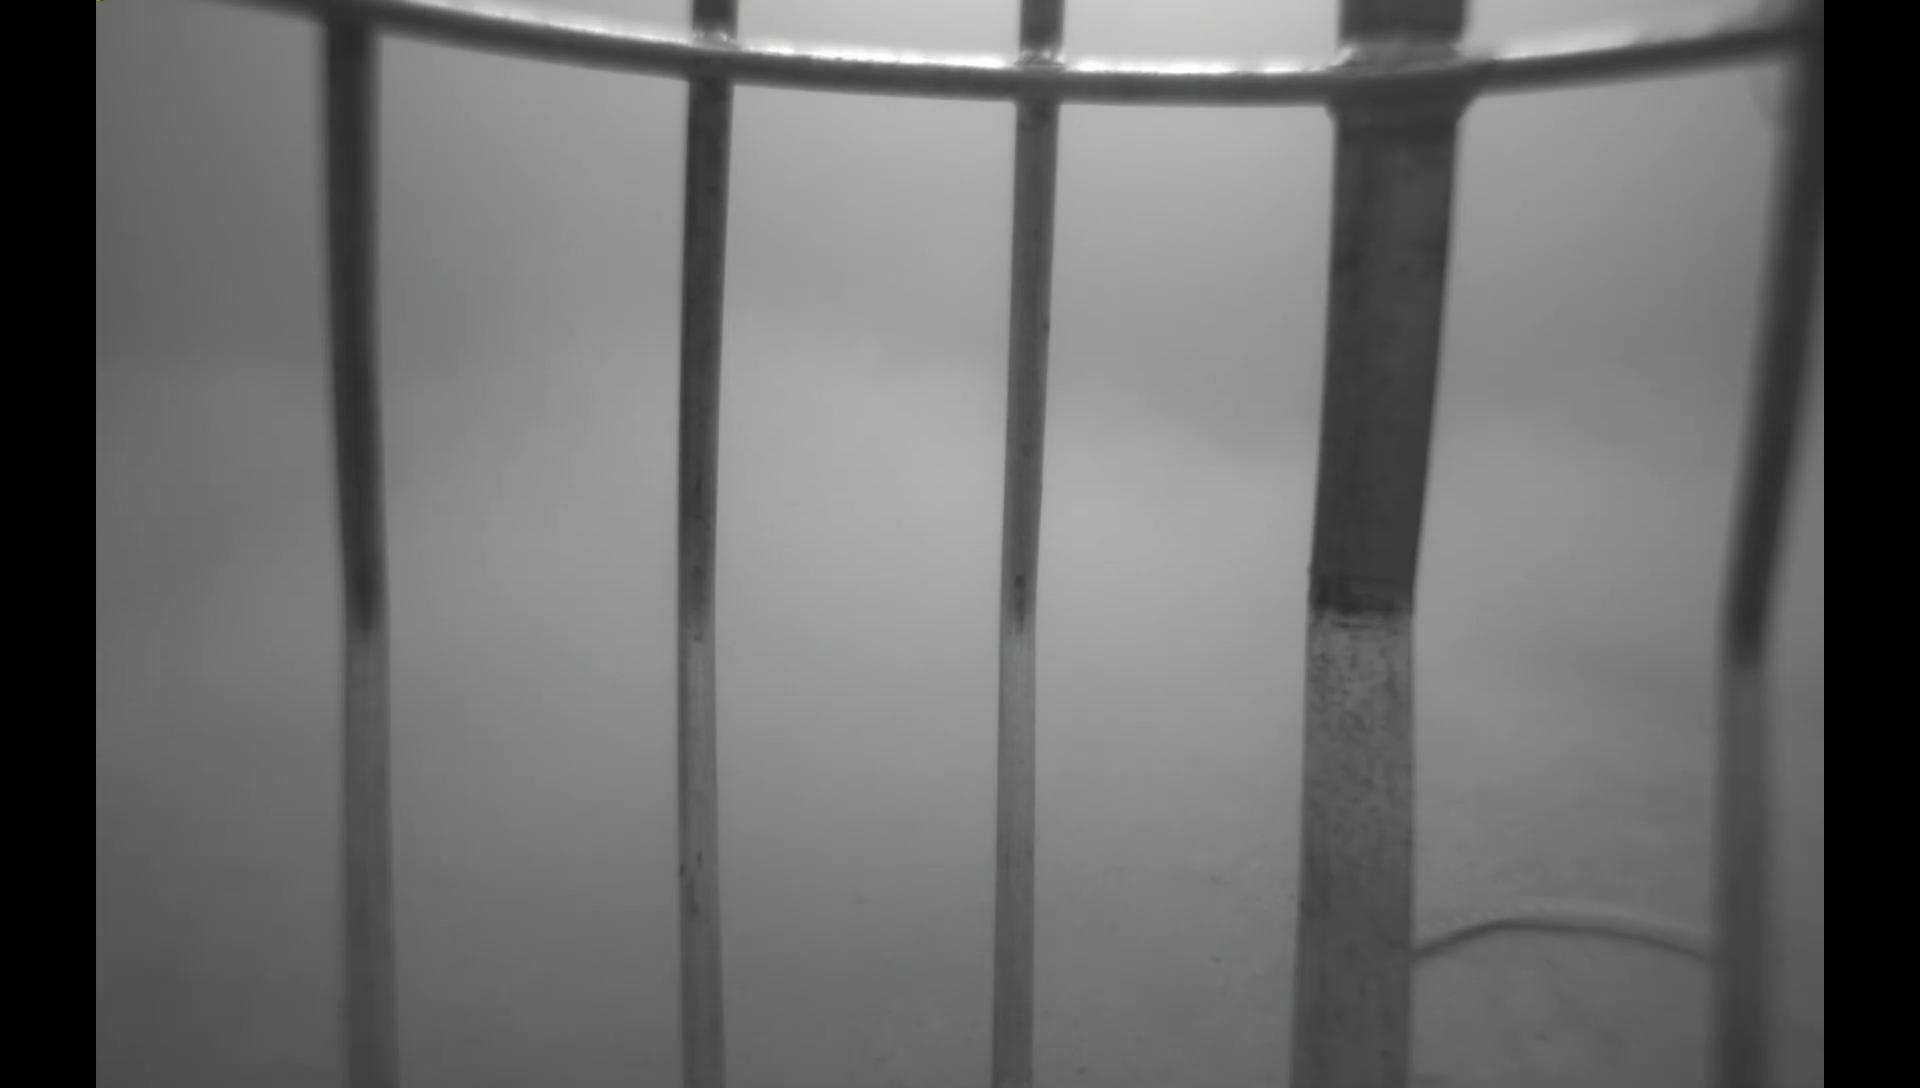OPHICHTHUSPUNCTICEPS-143150402: (1402, 885, 1714, 977)
